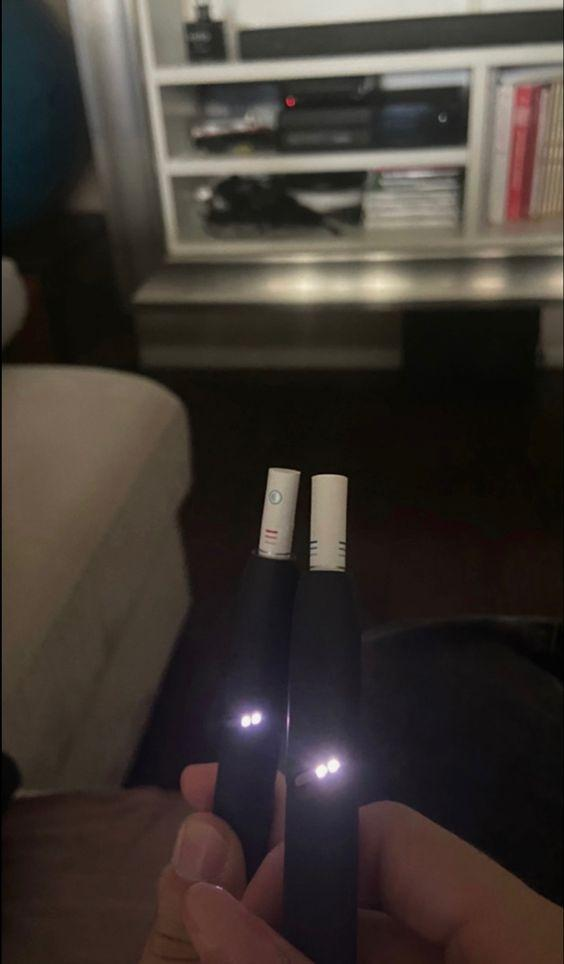iqos: (282, 475, 362, 963), (212, 468, 300, 879)
